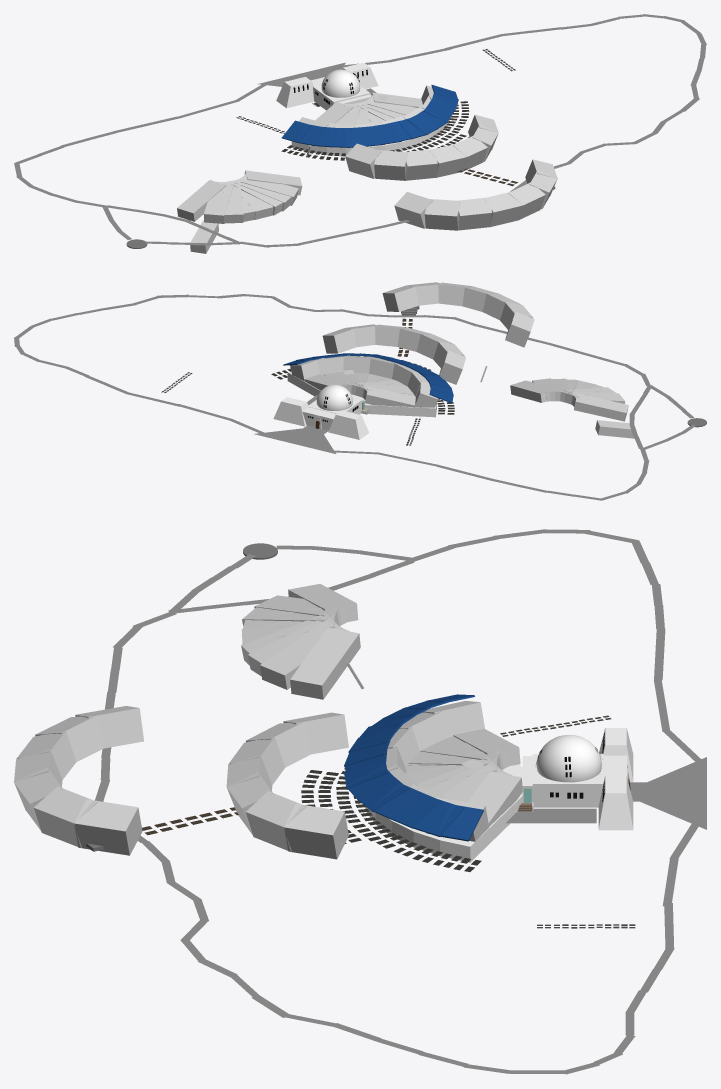
The model's file is asmundarsafn_nyasta_utgafa_8.4_15.07.obj.
The picture shows the model from 3 angles, top to bottom: view 1: azimuth 30°, elevation 25°; view 2: azimuth 150°, elevation 25°; view 3: azimuth 270°, elevation 25°; orthographic projection. The views are drawn at different scales.
Parts seen in each view (by area): view 1: Plane.001, Cube.003, der_yfir_thaki, Cube.032, gangstett_i_kringum_hring, syningarsalur, Cube.042, Cube.010, Cube.011, Sphere, h_hlid, Cube.008 (+13 smaller); view 2: Plane.001, Cube.003, Cube.032, der_yfir_thaki, syningarsalur, Cube.042, h_hlid, Sphere, v_hlid, Cube.002, Cube.037, Cube.008 (+12 smaller); view 3: Plane.001, Cube.003, der_yfir_thaki, Cube.032, Cube.037, Cube.002, syningarsalur, gangstett_i_kringum_hring, Sphere, innanhus, Cube.023, Cube.038 (+13 smaller).
Boxes of the visible parts, x1,y1,x2,y2 form: Plane.001: [14, 14, 706, 248]; Cube.003: [394, 159, 557, 230]; der_yfir_thaki: [281, 85, 458, 147]; Cube.032: [315, 92, 422, 124]; gangstett_i_kringum_hring: [281, 101, 469, 160]; syningarsalur: [291, 119, 449, 156]; Cube.042: [177, 180, 226, 221]; Cube.010: [374, 150, 407, 180]; Cube.011: [403, 149, 437, 180]; Sphere: [321, 69, 360, 97]; h_hlid: [276, 77, 314, 108]; Cube.008: [345, 143, 381, 178]; Plane.001: [14, 294, 706, 500]; Cube.003: [382, 282, 534, 347]; Cube.032: [304, 372, 415, 407]; der_yfir_thaki: [283, 353, 453, 403]; syningarsalur: [287, 371, 436, 417]; Cube.042: [573, 393, 628, 421]; h_hlid: [328, 410, 368, 439]; Sphere: [316, 384, 352, 410]; v_hlid: [273, 397, 308, 426]; Cube.002: [322, 328, 356, 353]; Cube.037: [510, 380, 556, 402]; Cube.008: [439, 350, 465, 384]; Plane.001: [86, 529, 706, 1074]; Cube.003: [14, 706, 144, 855]; der_yfir_thaki: [344, 694, 483, 841]; Cube.032: [406, 728, 522, 826]; Cube.037: [290, 627, 360, 699]; Cube.002: [284, 803, 348, 859]; syningarsalur: [365, 764, 522, 862]; gangstett_i_kringum_hring: [301, 767, 481, 871]; Sphere: [536, 735, 601, 782]; innanhus: [532, 754, 604, 807]; Cube.023: [245, 791, 306, 852]; Cube.038: [260, 621, 349, 689].
Bounding box in the file's own units: 148 × 12.88 × 79.27.
